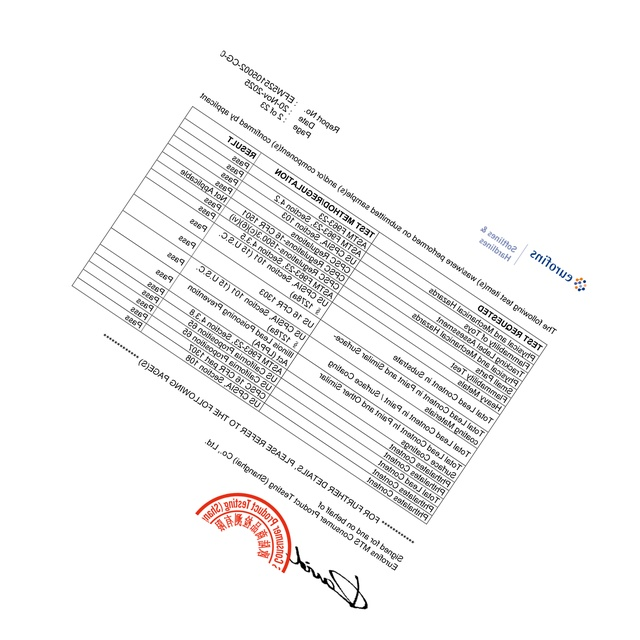eurofins: (527, 244, 590, 296)
